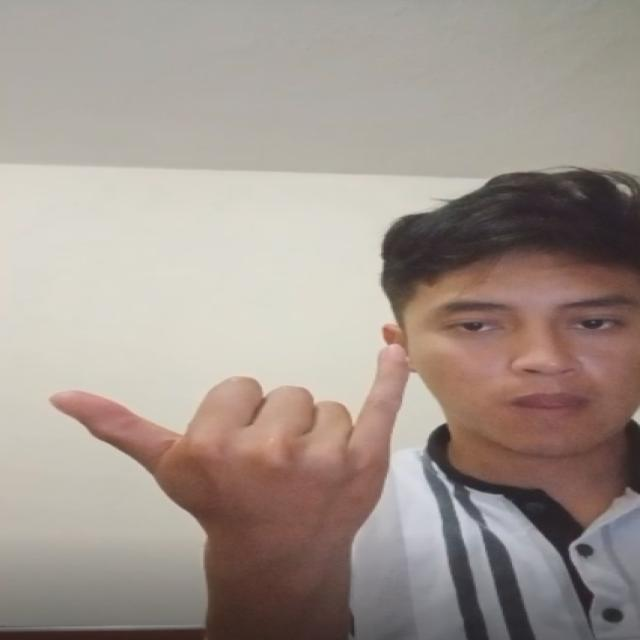Y: (36, 318, 440, 564)
